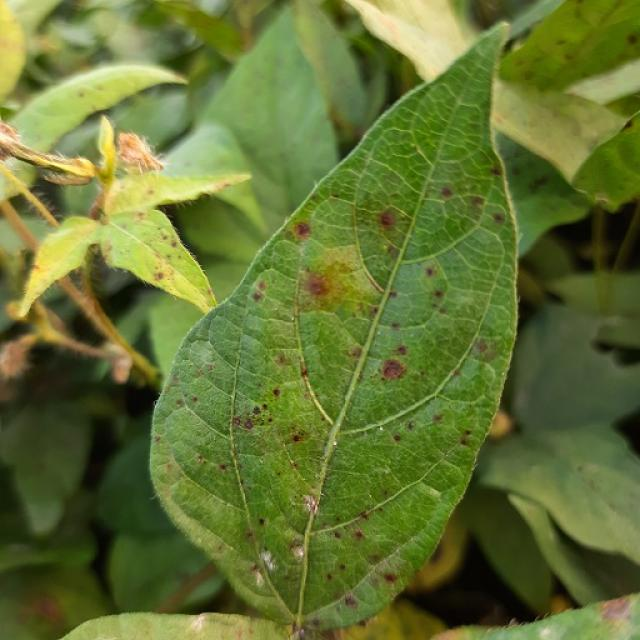Anthracnose: (301, 505, 387, 590), (248, 401, 316, 468), (374, 350, 419, 393), (241, 404, 274, 433), (304, 273, 329, 297), (378, 210, 397, 228), (294, 222, 311, 238), (474, 339, 488, 354), (347, 345, 362, 358), (275, 353, 289, 366), (471, 196, 485, 209), (432, 304, 447, 316), (440, 186, 453, 198), (493, 213, 505, 224), (252, 291, 263, 302), (284, 230, 295, 241), (395, 345, 407, 355), (232, 417, 242, 428), (257, 280, 267, 291), (425, 267, 435, 278), (243, 419, 253, 429), (354, 530, 364, 540), (433, 413, 443, 423), (360, 510, 370, 520), (434, 290, 445, 299), (460, 437, 470, 446), (369, 306, 379, 315), (300, 367, 308, 378), (252, 406, 261, 415), (272, 388, 281, 397), (333, 530, 342, 539), (390, 322, 400, 330), (388, 291, 398, 299), (407, 422, 415, 431), (176, 398, 184, 407), (393, 434, 402, 442), (261, 403, 268, 411), (219, 463, 226, 471), (258, 518, 265, 526), (326, 573, 333, 581), (154, 436, 162, 443), (197, 455, 204, 462), (191, 396, 198, 403), (465, 429, 472, 436)
Blackgram: (151, 25, 516, 624)
